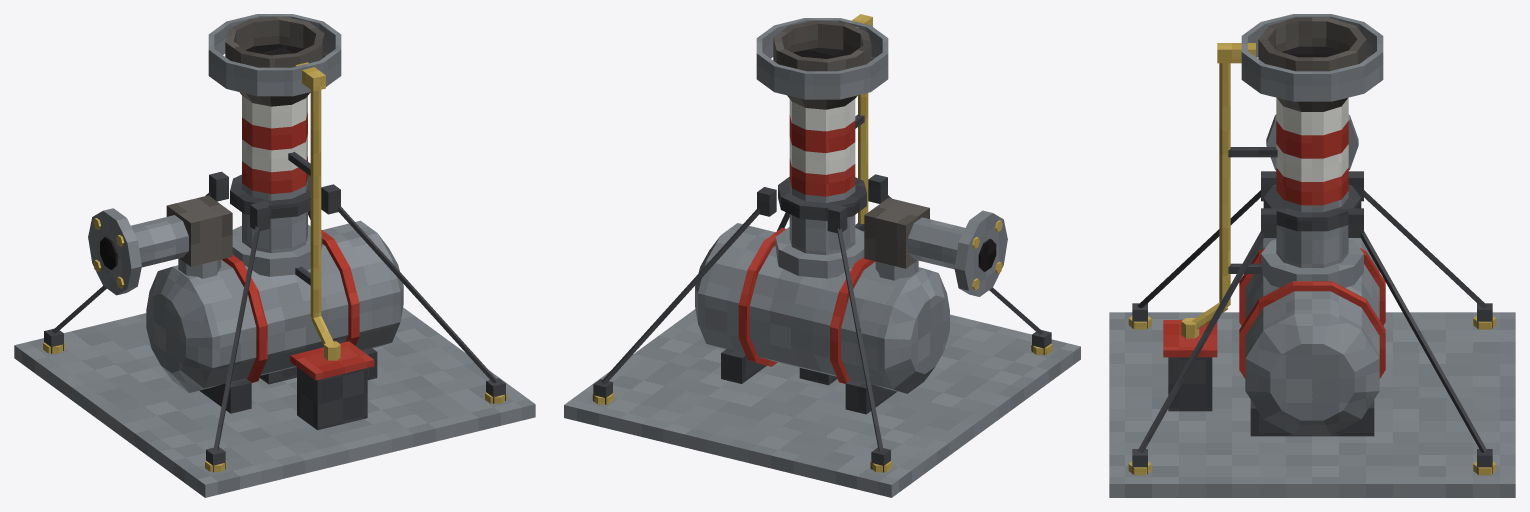
The model's file is flarestack.obj.
The picture shows the model from 3 angles, left to right: view 1: azimuth 30°, elevation 25°; view 2: azimuth 150°, elevation 25°; view 3: azimuth 270°, elevation 25°; orthographic projection. The views are drawn at different scales.
Visible parts, largest first — view 1: main; view 2: main; view 3: main.
Boxes of the visible parts, x1,y1,x2,y2 form: main: [14, 14, 535, 497]; main: [564, 14, 1080, 497]; main: [1109, 14, 1515, 497].
Size of the model in its own units: 0.9938 by 1 by 0.9875.
Materials: 1 (1 with a texture image).
